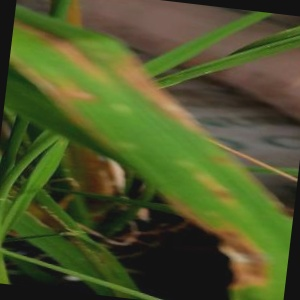Brown_Spot: (110, 50, 209, 130), (205, 221, 268, 290), (53, 80, 99, 105)
